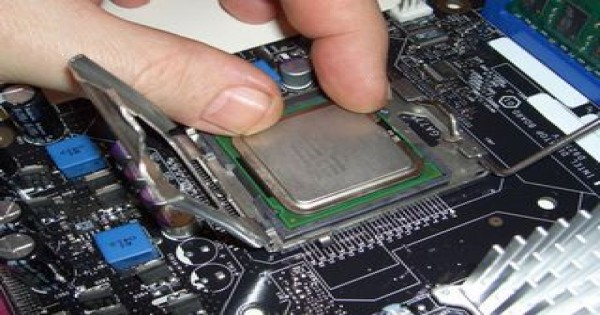processor: (214, 92, 444, 230)
